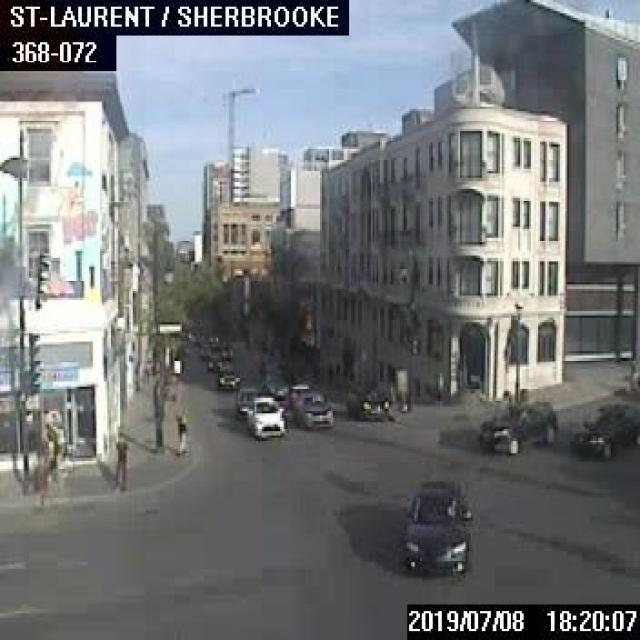pedestrian: (42, 421, 55, 484), (113, 431, 125, 487), (173, 414, 185, 454)
vehicle: (404, 476, 469, 574), (569, 398, 638, 458), (480, 398, 555, 453), (245, 395, 285, 438), (347, 382, 389, 418), (292, 390, 332, 425), (233, 384, 260, 417), (260, 371, 287, 396), (216, 363, 241, 389), (204, 353, 220, 372)
